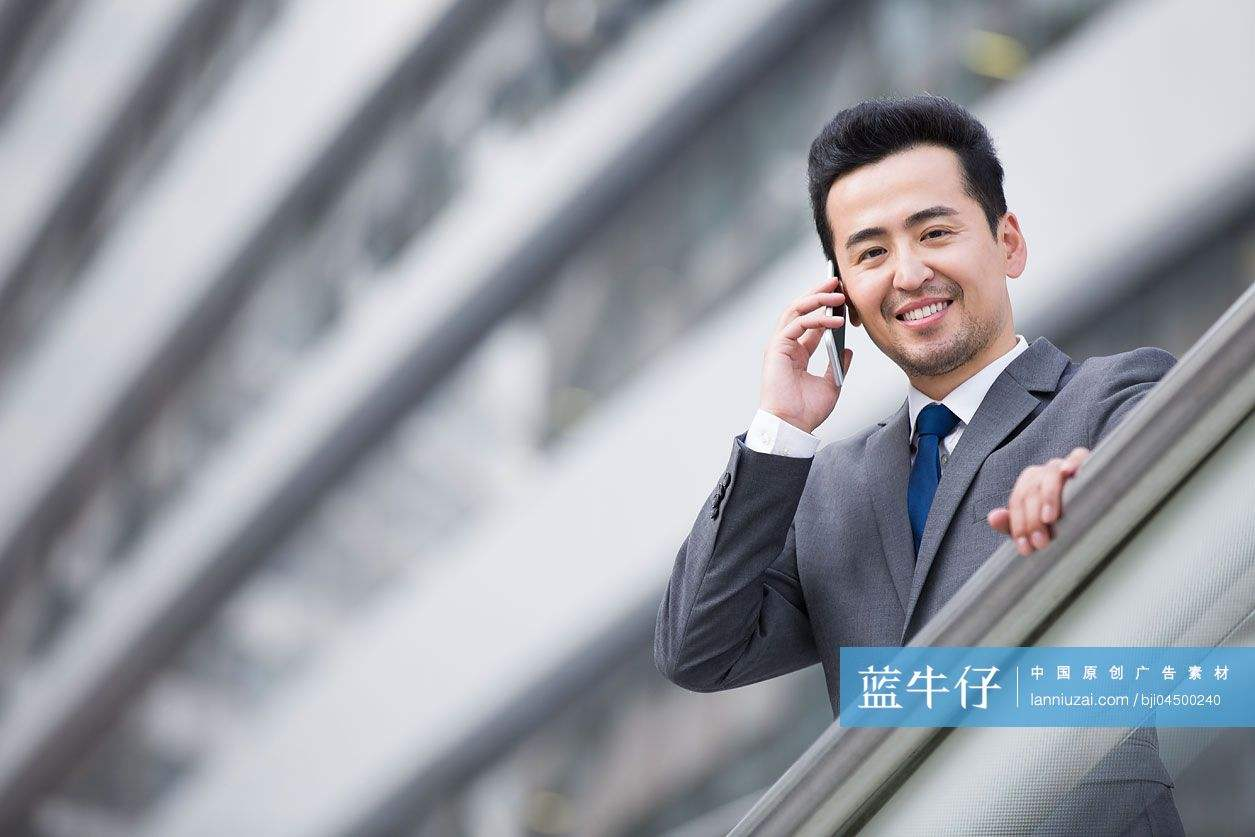calling: (750, 255, 859, 426)
